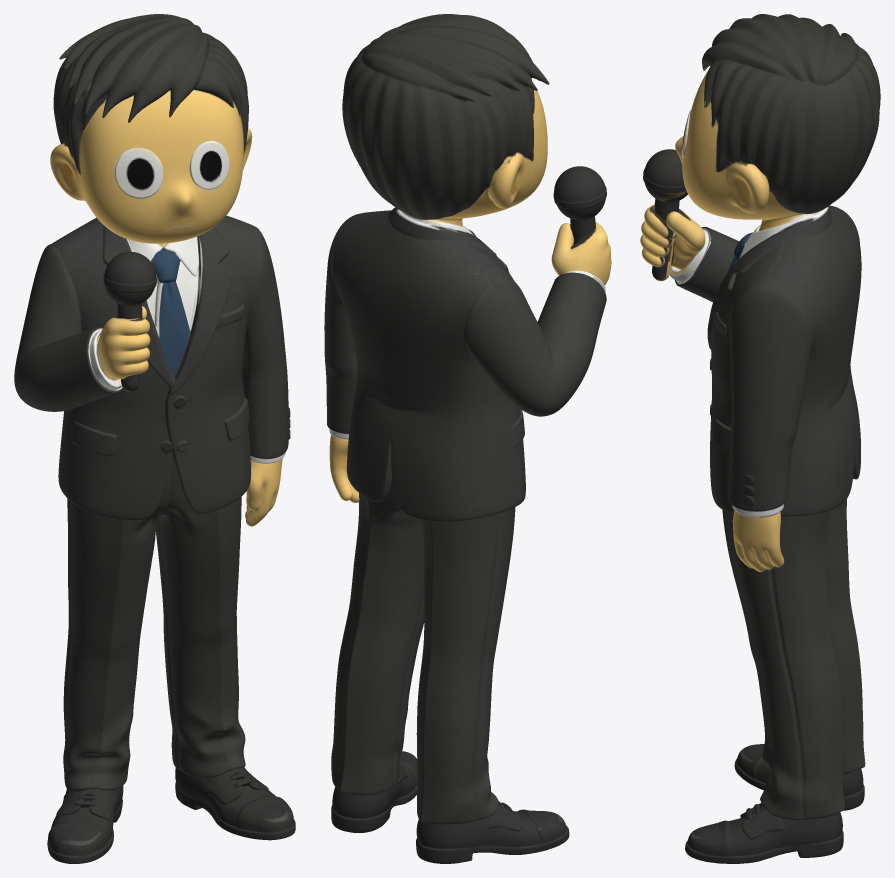
The model's file is meshy-reporter.glb.
3 renders of one model, left to right at view 1: azimuth 30°, elevation 25°; view 2: azimuth 150°, elevation 25°; view 3: azimuth 270°, elevation 25°, orthographic.
Size of the model in its own units: 0.1164 by 0.35 by 0.0968.
1 material, 1 textured.
